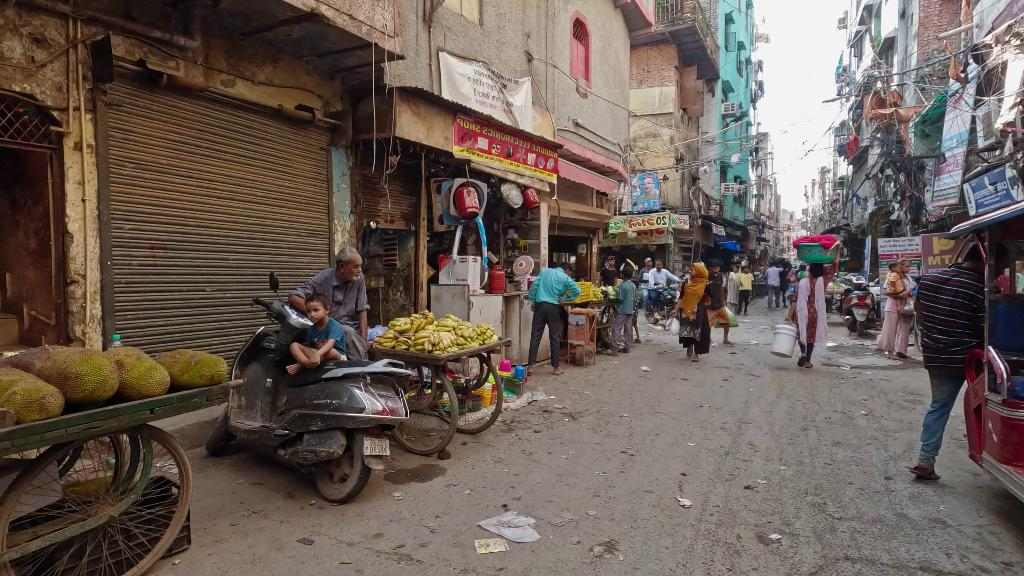garbage: (468, 504, 539, 557), (635, 360, 653, 377)
